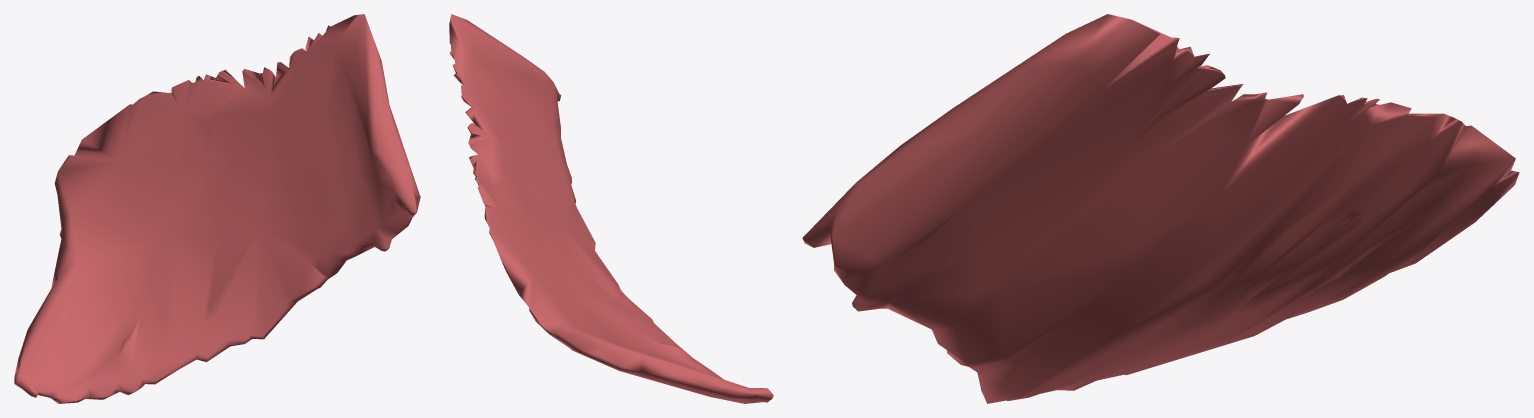
3 views of the same model, side by side, from view 1: azimuth 30°, elevation 25°; view 2: azimuth 150°, elevation 25°; view 3: azimuth 270°, elevation 25° (orthographic). The views are drawn at different scales.
Parts seen in each view (by area): view 1: 左侧降下唇肌; view 2: 左侧降下唇肌; view 3: 左侧降下唇肌.
Part boxes in pixels (x1,y1,x2,y2): 左侧降下唇肌: [14, 14, 420, 403]; 左侧降下唇肌: [449, 14, 773, 403]; 左侧降下唇肌: [802, 14, 1519, 403].
Size of the model in its own units: 0.0451 by 0.0402 by 0.0435.
